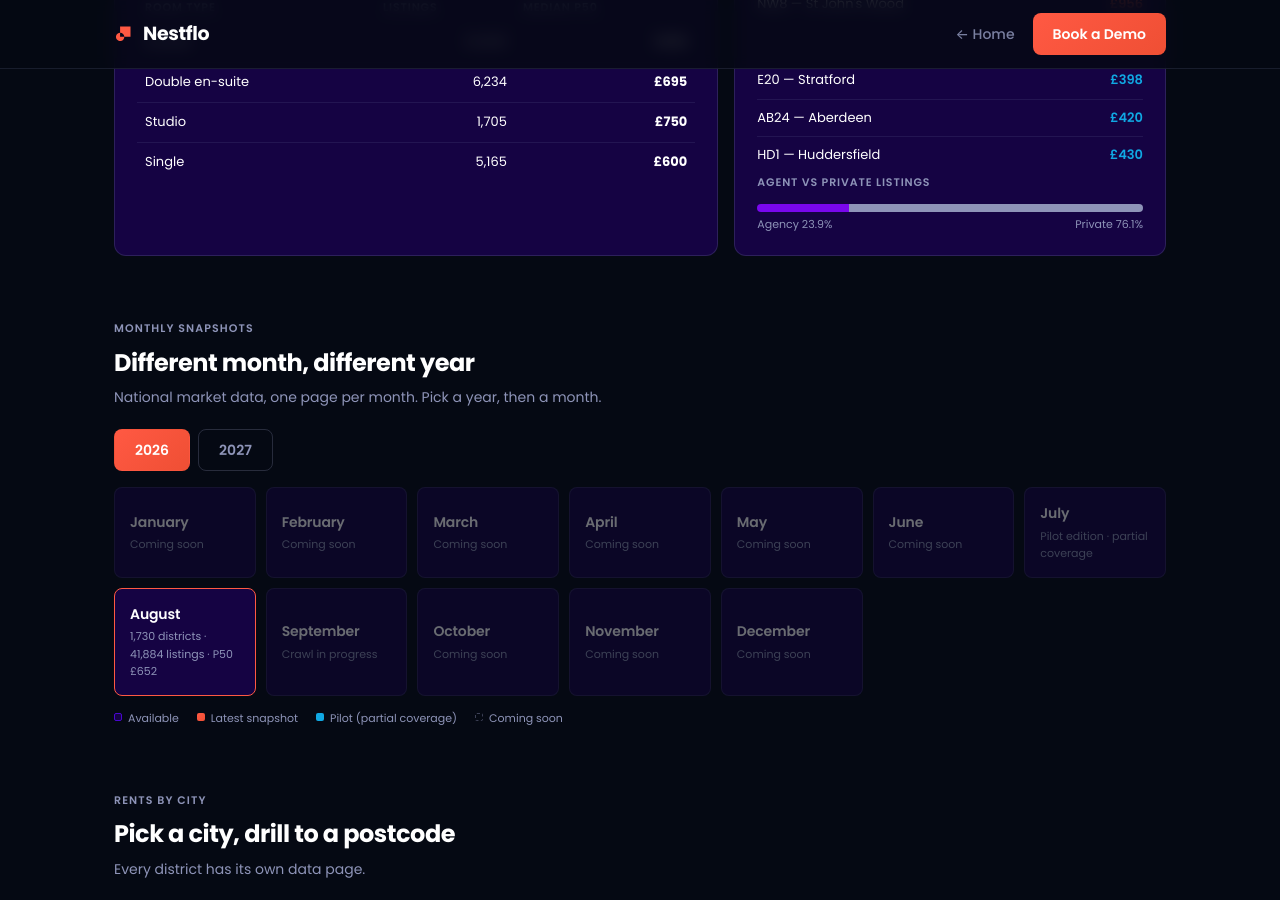
Test case: AC-11/AC-12 monthly snapshots grid › renders all 12 months of 2027 as disabled with no links
(page scrolled)
What coordinates should you click on to do the following:
click the button "2027"
I would click on:
 (236, 450)
Its box is left=198, top=429, right=273, bottom=471.
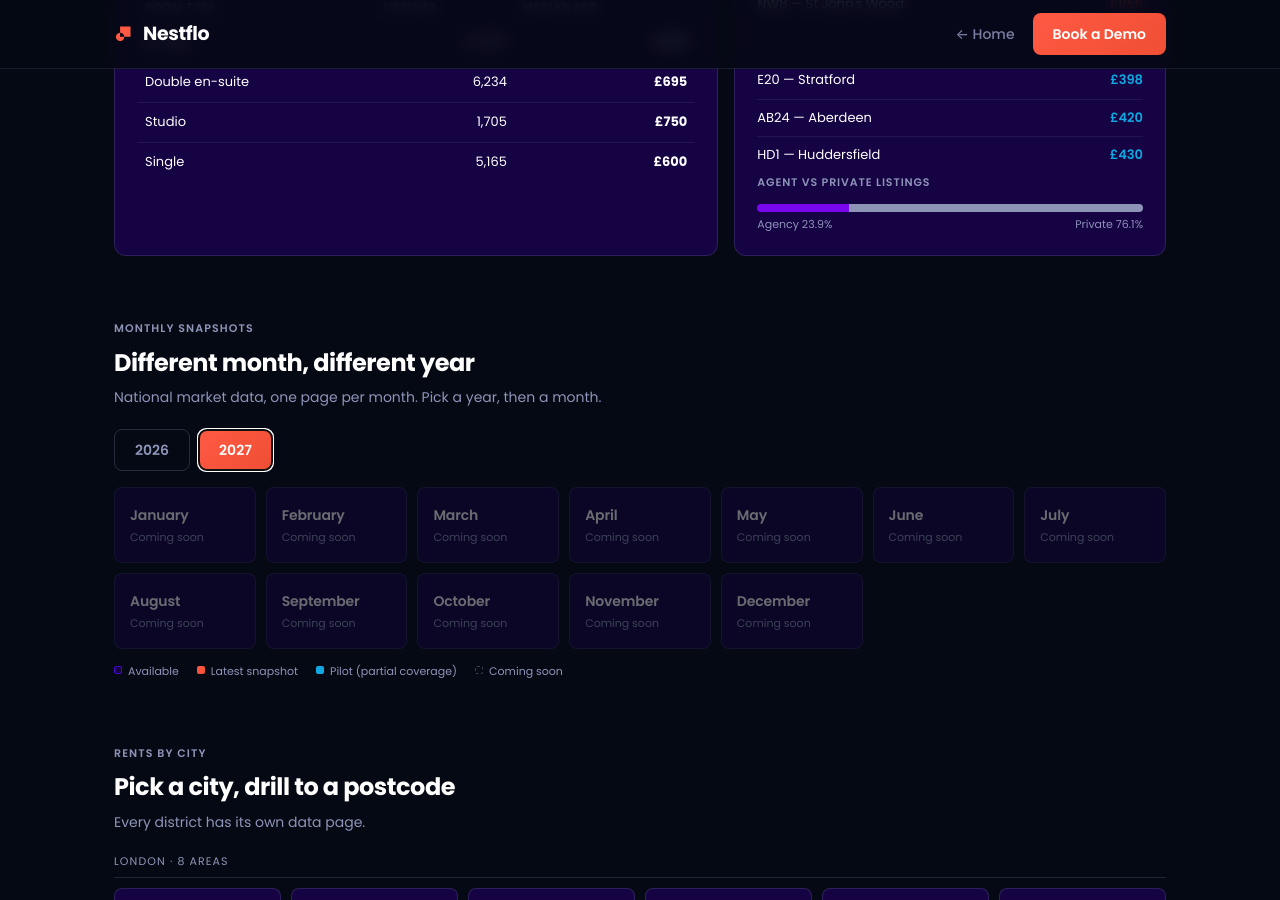
Expected: no the link "August 1,730 districts · 41,884 listings · P50 £652" are shown
